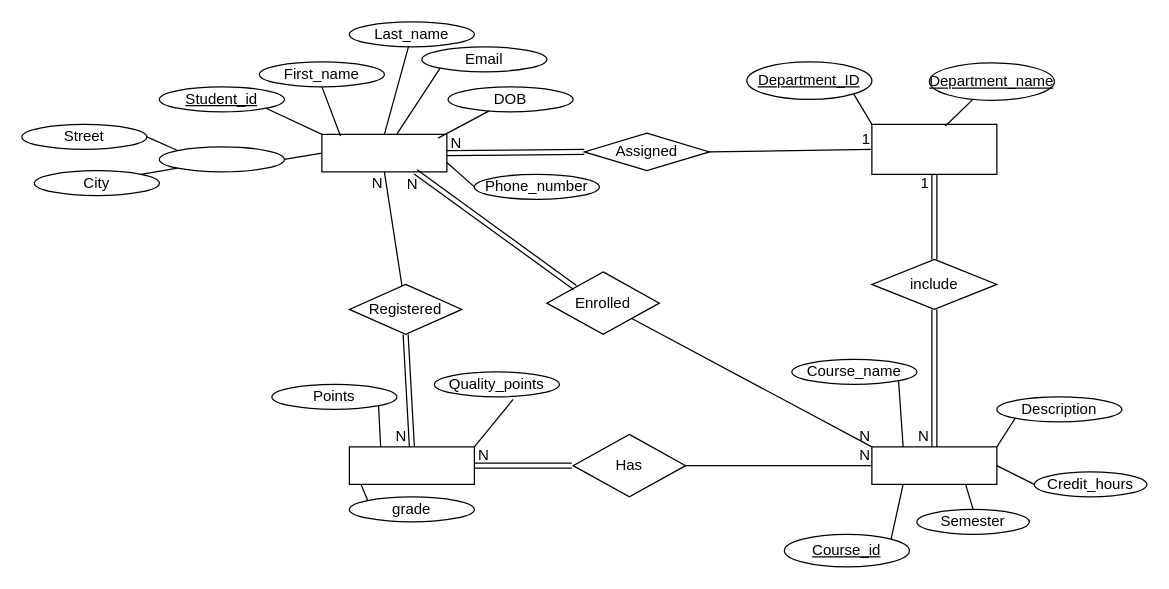
The diagram is 1169 pixels wide and 589 high, and some of its shapes have lost their labels. The shapes that lost their labels are listed below. From the top down, each one's centre as x and y in pixels, then its label:
At (221,159): "Address".
At (384,152): "Students".
At (934,148): "Department".
At (411,465): "Enrollment".
At (934,465): "Courses".
